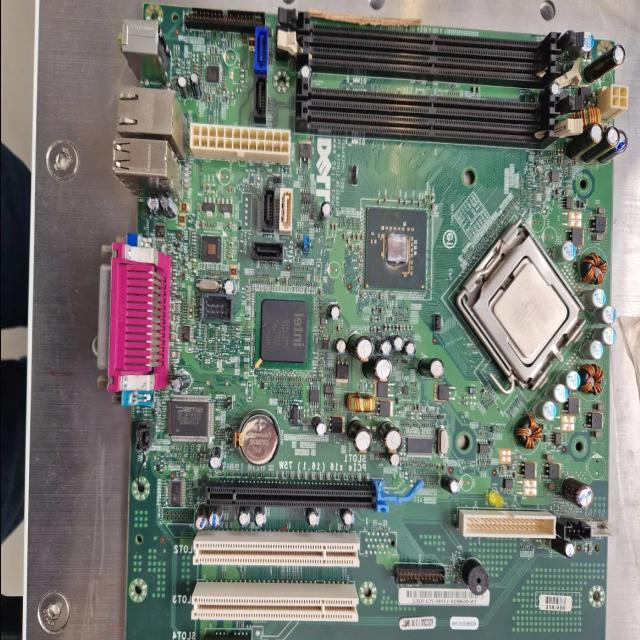A: (346, 394, 374, 414)
C: (346, 421, 372, 453), (378, 422, 402, 454), (362, 357, 392, 382), (347, 334, 372, 362), (418, 358, 442, 379), (439, 474, 458, 494), (310, 417, 326, 437), (374, 338, 390, 356), (338, 508, 352, 528), (304, 508, 318, 528), (208, 448, 222, 468), (317, 203, 331, 221), (326, 304, 341, 320), (208, 507, 220, 527), (252, 508, 264, 527), (400, 341, 415, 356), (388, 335, 402, 351), (332, 338, 346, 354), (222, 280, 236, 296), (237, 510, 249, 528), (388, 454, 400, 466)
